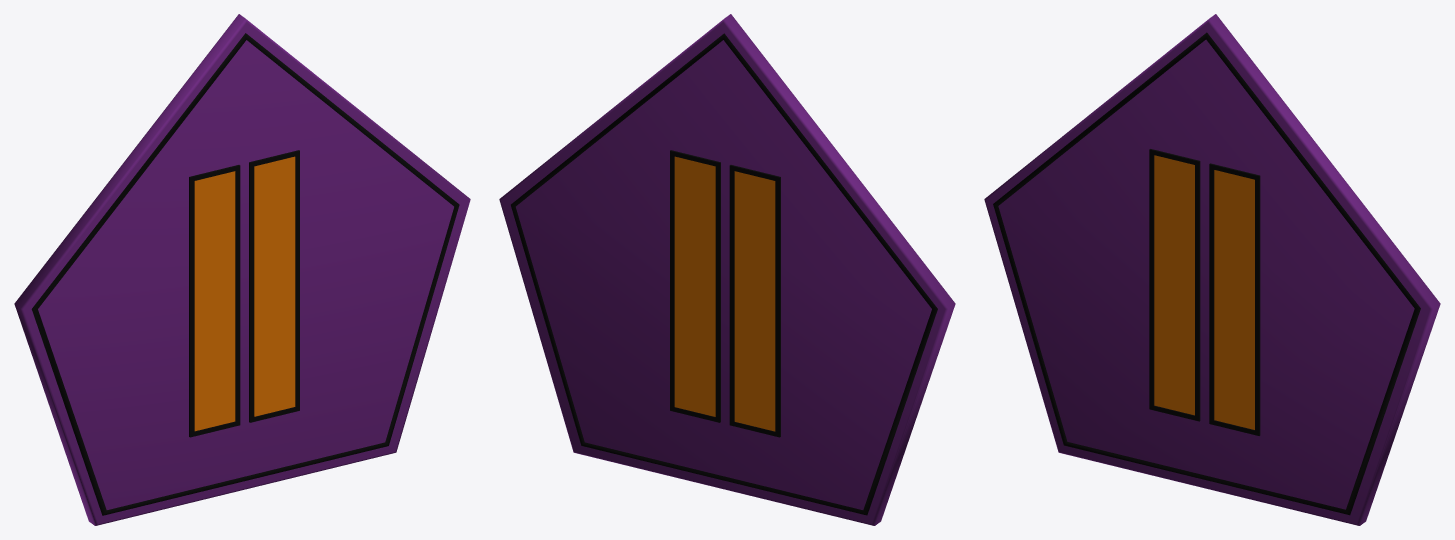
File: Pentagon_2Line.fbx
The picture shows the model from 3 angles, left to right: view 1: azimuth 30°, elevation 25°; view 2: azimuth 150°, elevation 25°; view 3: azimuth 330°, elevation 25°; orthographic projection.
Visible parts, largest first — view 1: outer_Pentagon2Line; view 2: outer_Pentagon2Line; view 3: outer_Pentagon2Line.
Part boxes in pixels (x1=…): outer_Pentagon2Line: x1=14, y1=14, x2=470, y2=525; outer_Pentagon2Line: x1=499, y1=14, x2=955, y2=525; outer_Pentagon2Line: x1=984, y1=14, x2=1440, y2=525.
Size of the model in its own units: 150 by 150 by 6.22.
6 materials, 6 textured.
